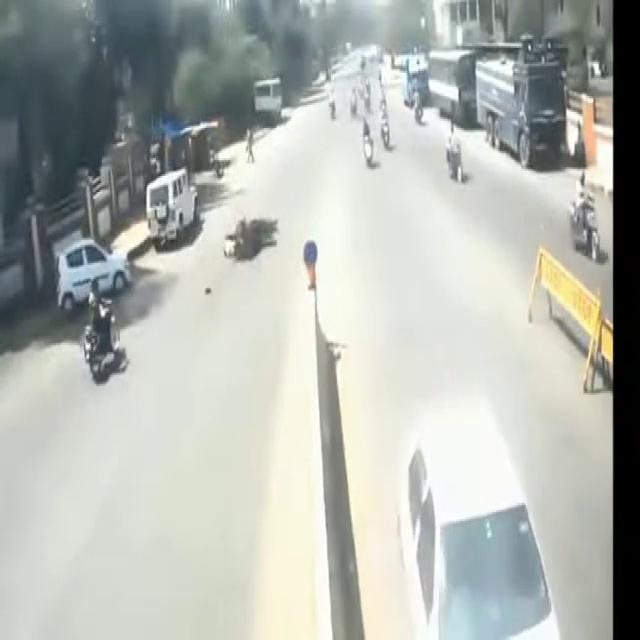accident: (217, 199, 298, 296)
